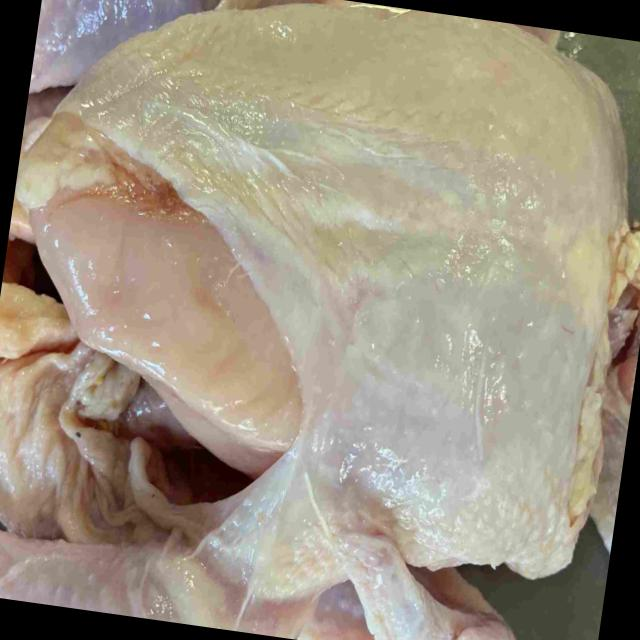breast: (21, 12, 626, 577)
leg: (0, 534, 301, 640), (28, 0, 344, 98)
wing: (300, 533, 512, 640)
